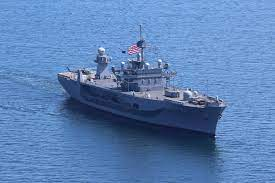Ship: (58, 37, 226, 136)
